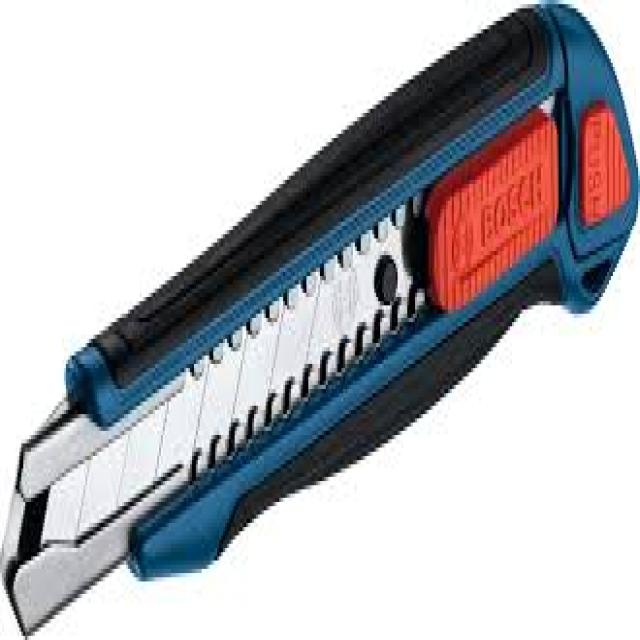Knife: (0, 4, 638, 590)
